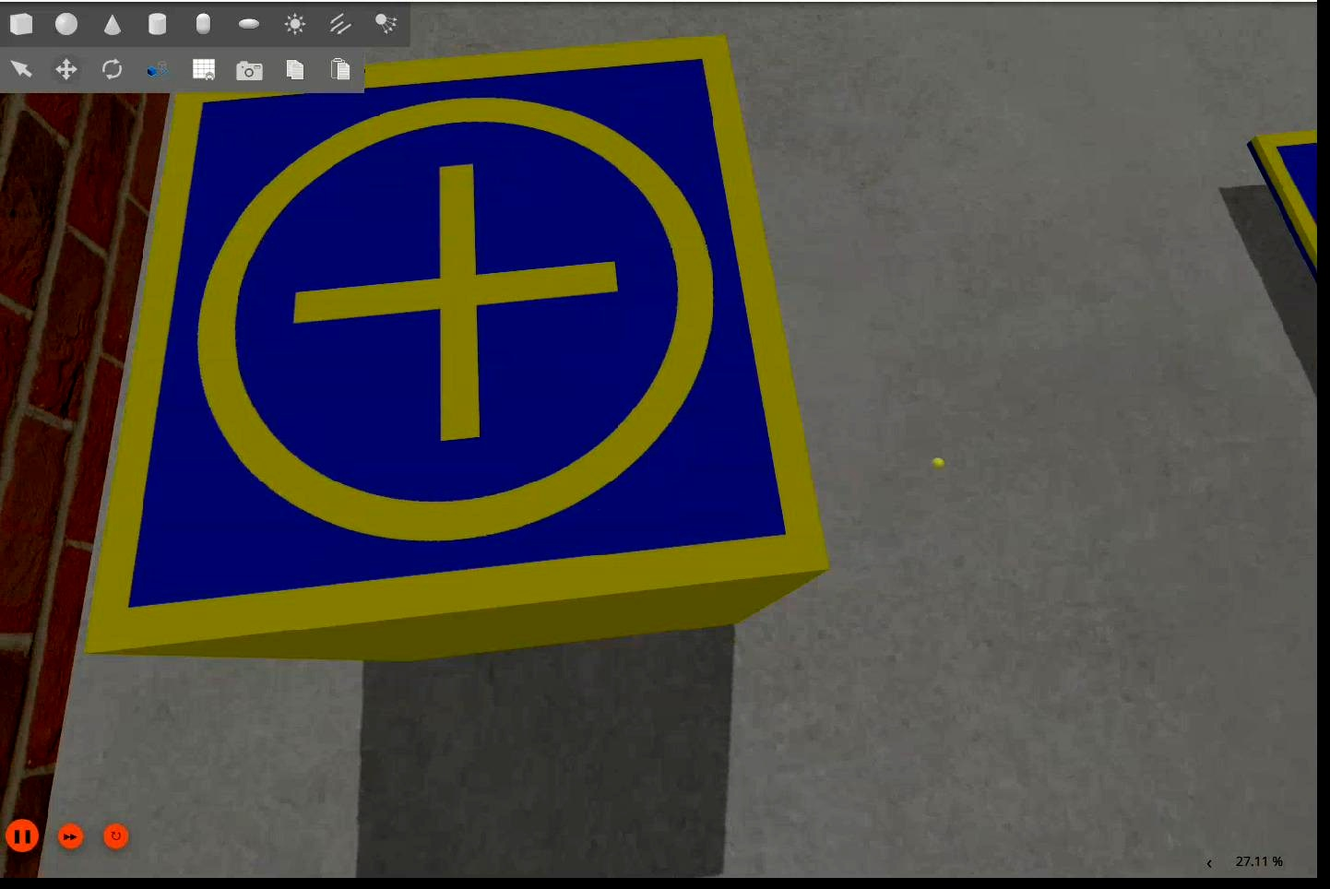small_base: (86, 36, 830, 660)
